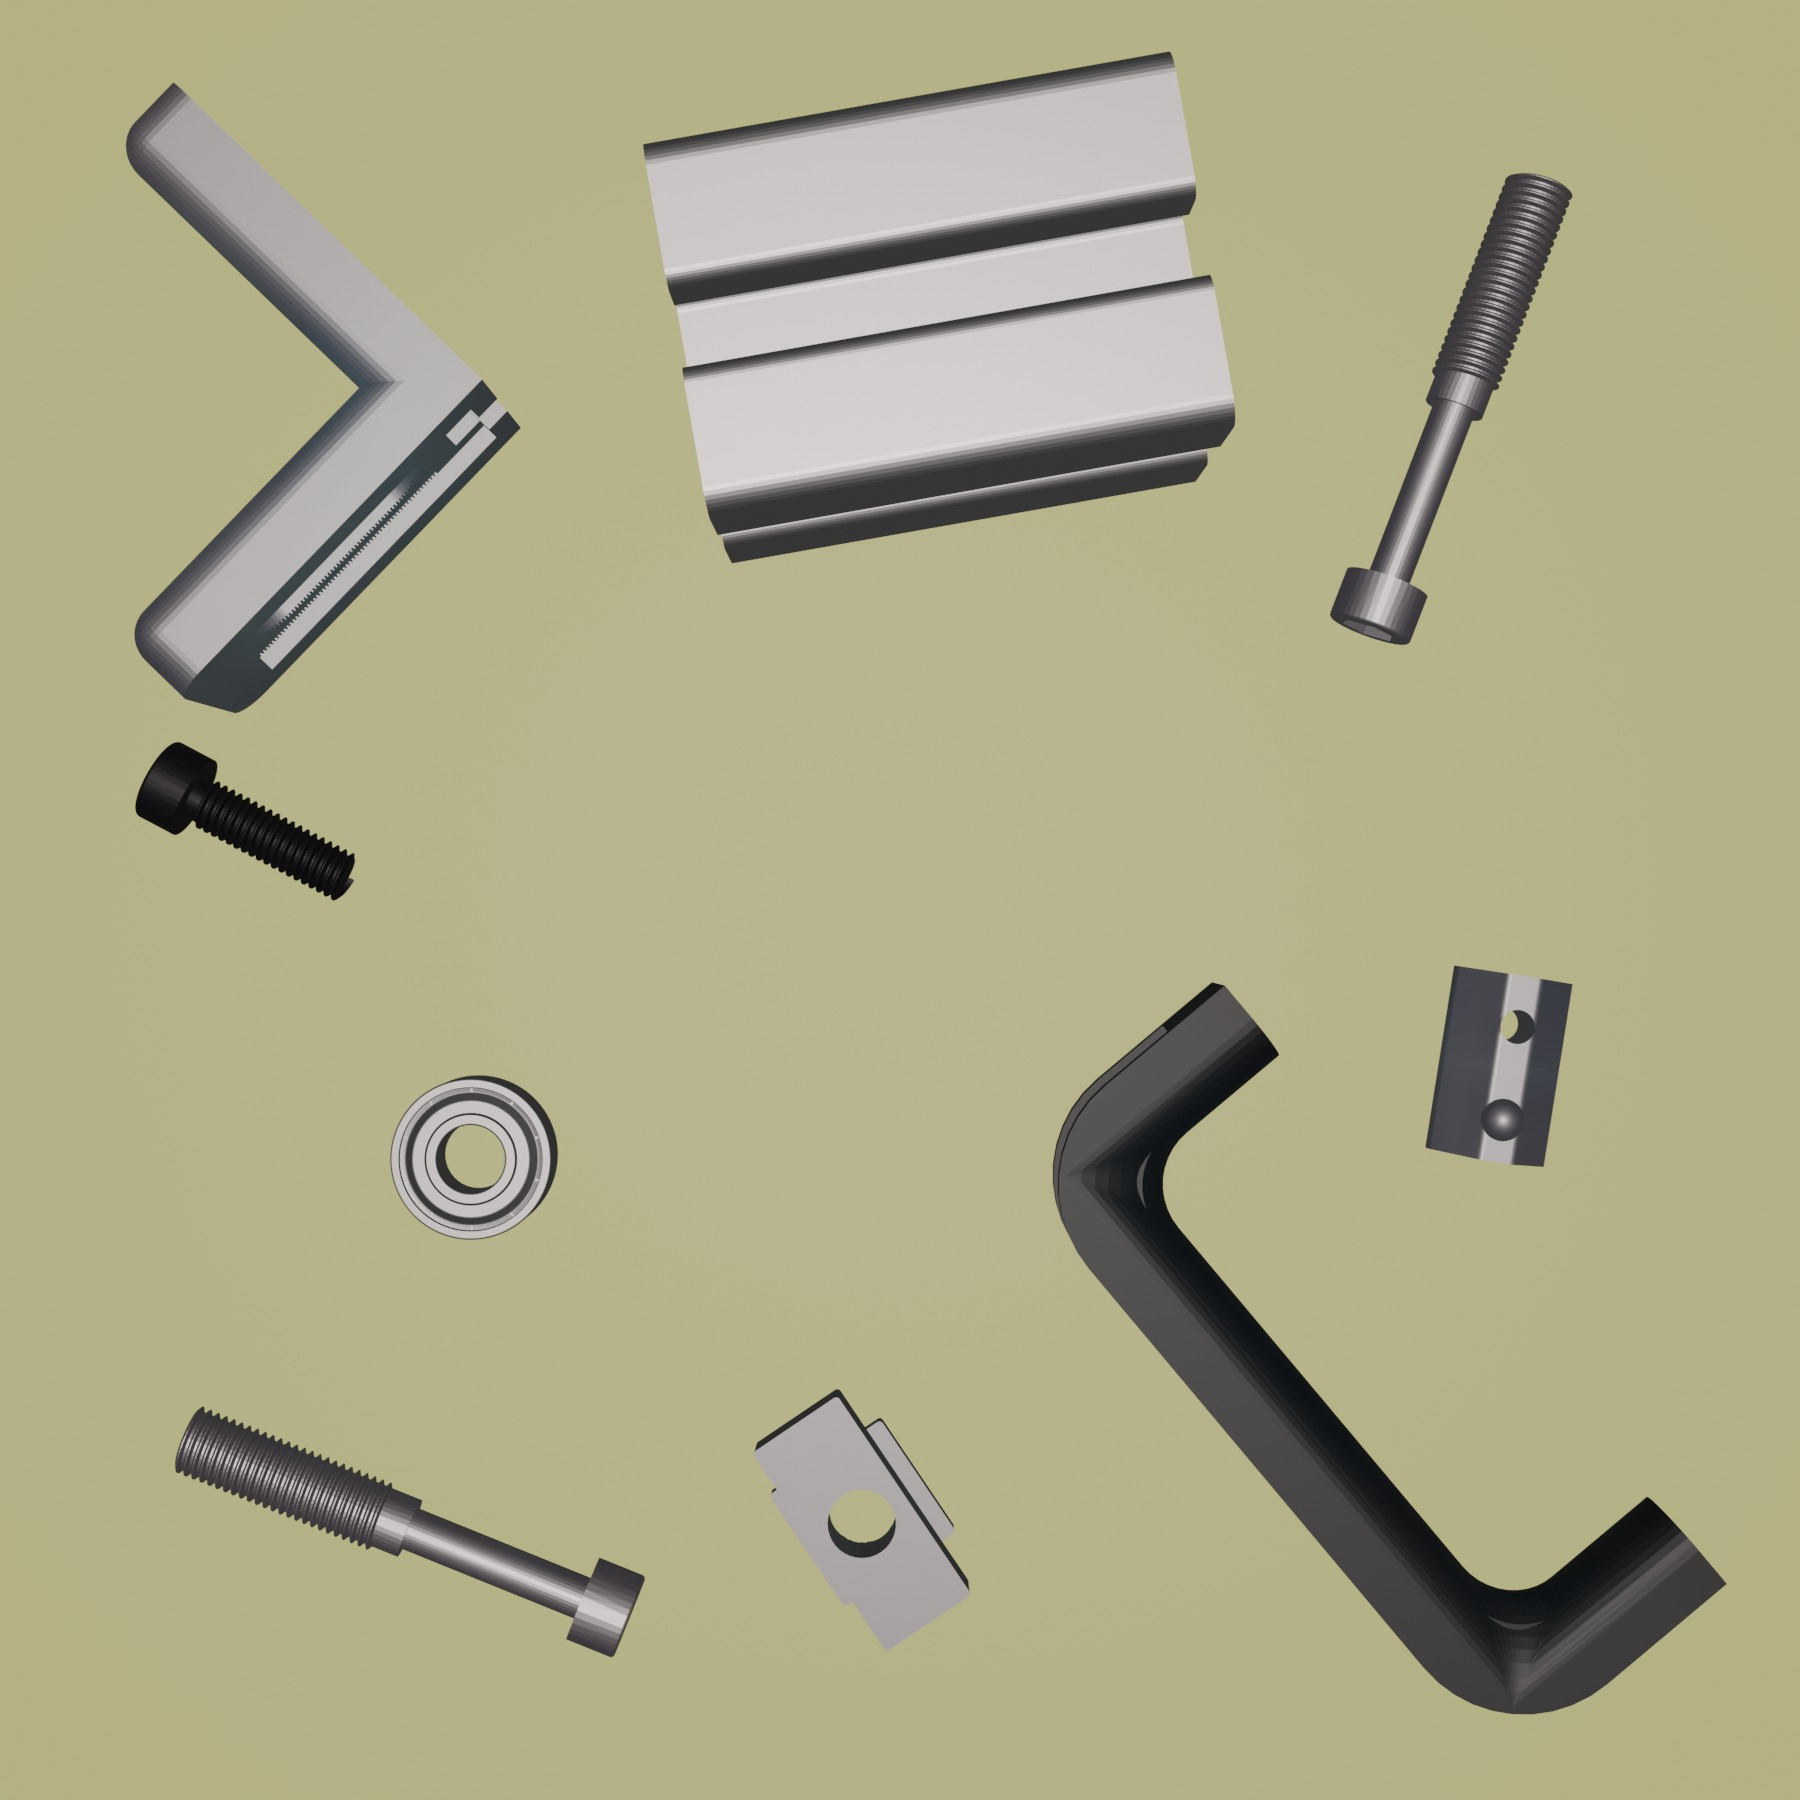Aluminium Extension: (640, 46, 1240, 565)
Ball Bearing: (386, 1071, 560, 1243)
Multiwinkel: (120, 77, 521, 714)
Pull Handle: (1052, 977, 1724, 1718)
Shoulder Socket Head Cap Screw: (170, 1408, 648, 1662), (1327, 170, 1573, 648)
Socket Head Cap Screw: (132, 738, 358, 903)
T Nut Square: (750, 1386, 974, 1653)
T Spring Nut: (1421, 963, 1577, 1169)
